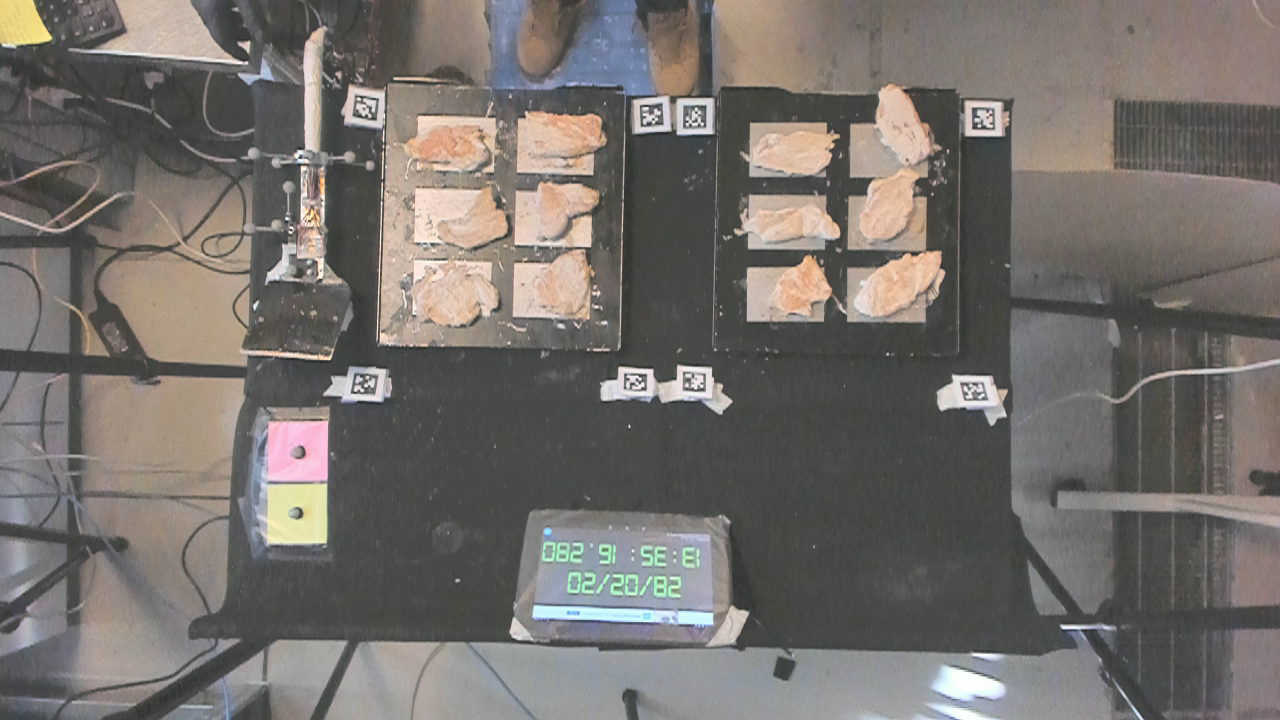chicken: (854, 253, 948, 317), (409, 264, 502, 328), (876, 76, 941, 165), (438, 182, 512, 252), (527, 247, 592, 322), (863, 165, 924, 241), (406, 117, 490, 172), (752, 126, 844, 176), (533, 176, 599, 239), (525, 106, 604, 156), (734, 204, 842, 240), (773, 256, 833, 319)
marker: (263, 419, 329, 483)
